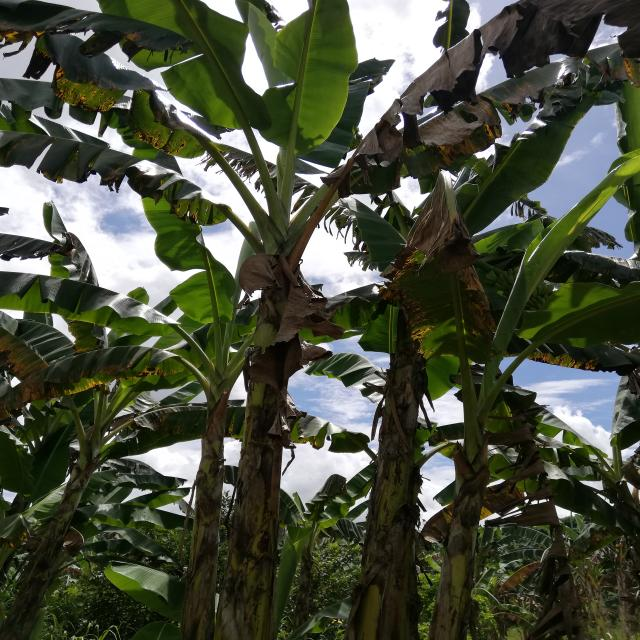Banana-plant: (210, 158, 336, 640), (0, 390, 134, 640), (426, 343, 538, 640), (168, 321, 253, 640), (358, 264, 426, 640)
